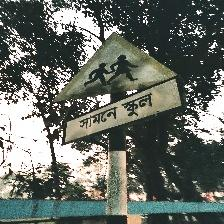School-in-front: (52, 33, 183, 145)
